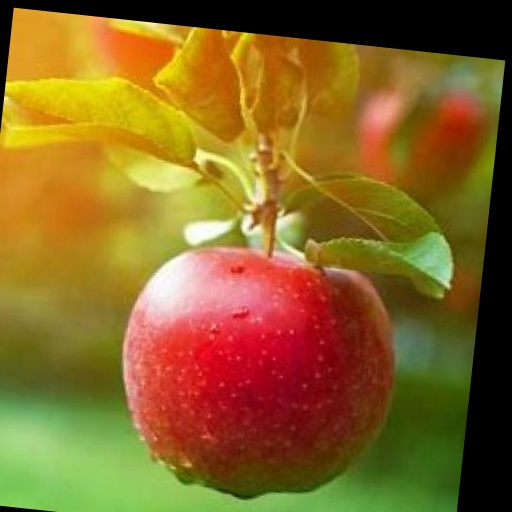fruit: (123, 248, 392, 497), (403, 90, 486, 199), (90, 16, 172, 87)
